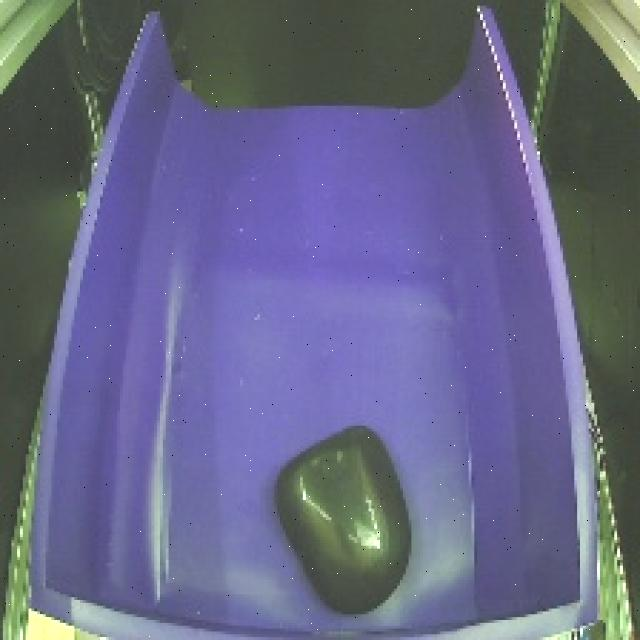cobbles: (263, 417, 424, 625)
